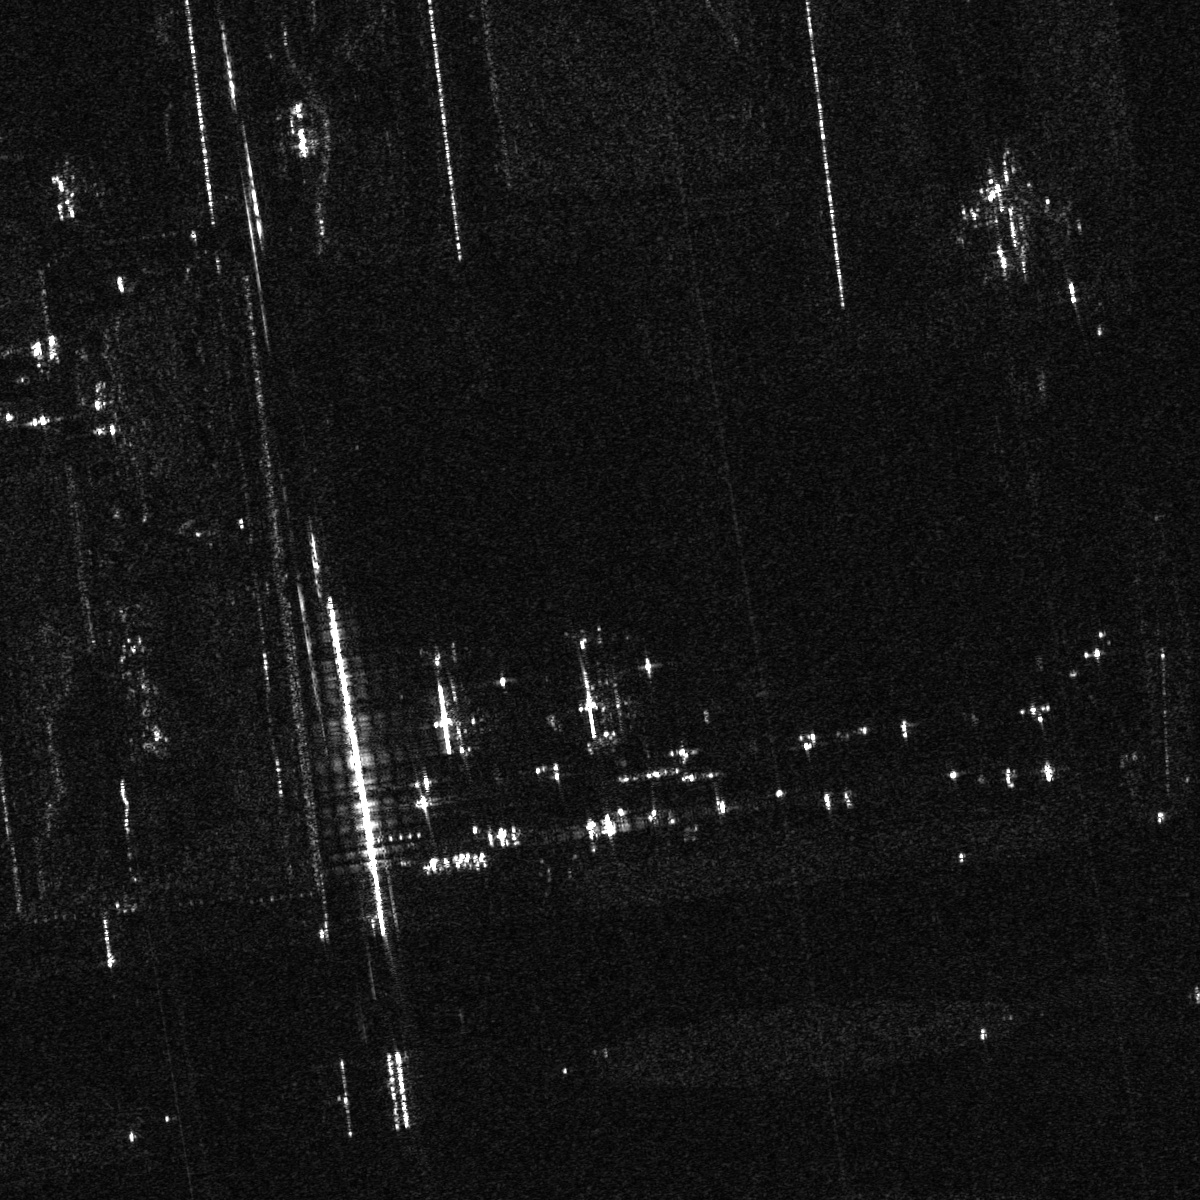A220: (42, 174, 86, 224)
other: (954, 149, 1082, 282)
